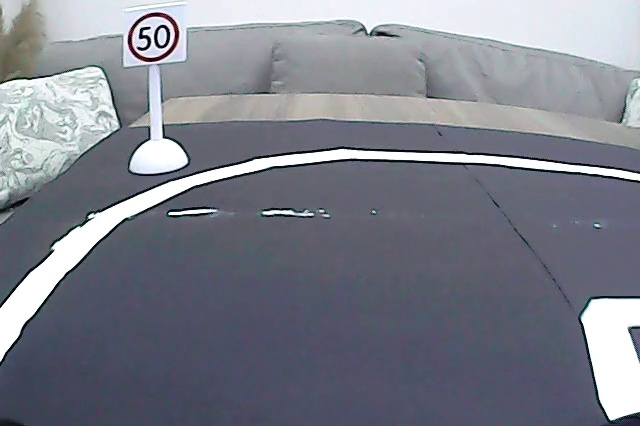speed limit 50: (125, 8, 183, 64)
